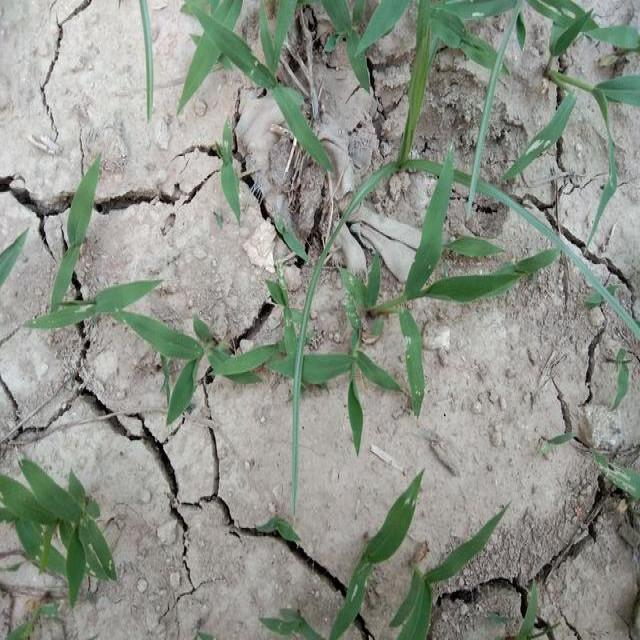weed: (409, 0, 640, 335), (286, 130, 452, 426), (191, 0, 640, 109), (393, 141, 490, 409), (33, 163, 149, 327), (335, 506, 517, 600), (120, 301, 274, 407), (0, 453, 112, 592), (340, 488, 407, 626), (213, 128, 250, 212)
